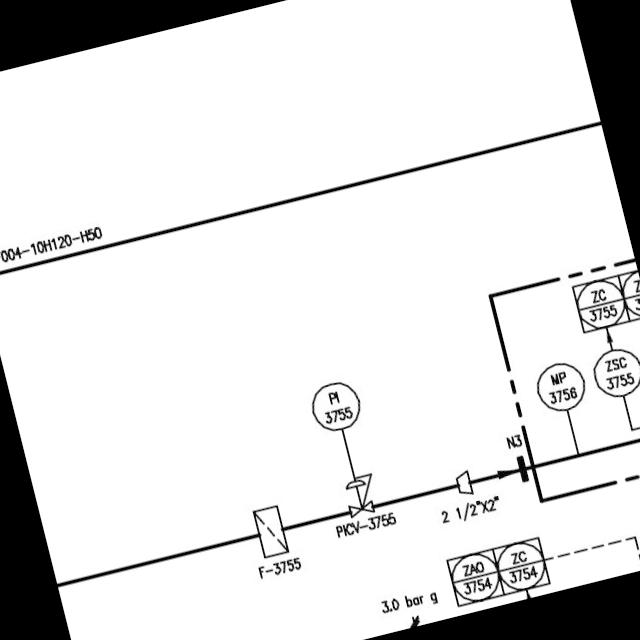F2: (245, 499, 293, 561)
PCV: (337, 468, 383, 520)
SP: (450, 466, 476, 498)
